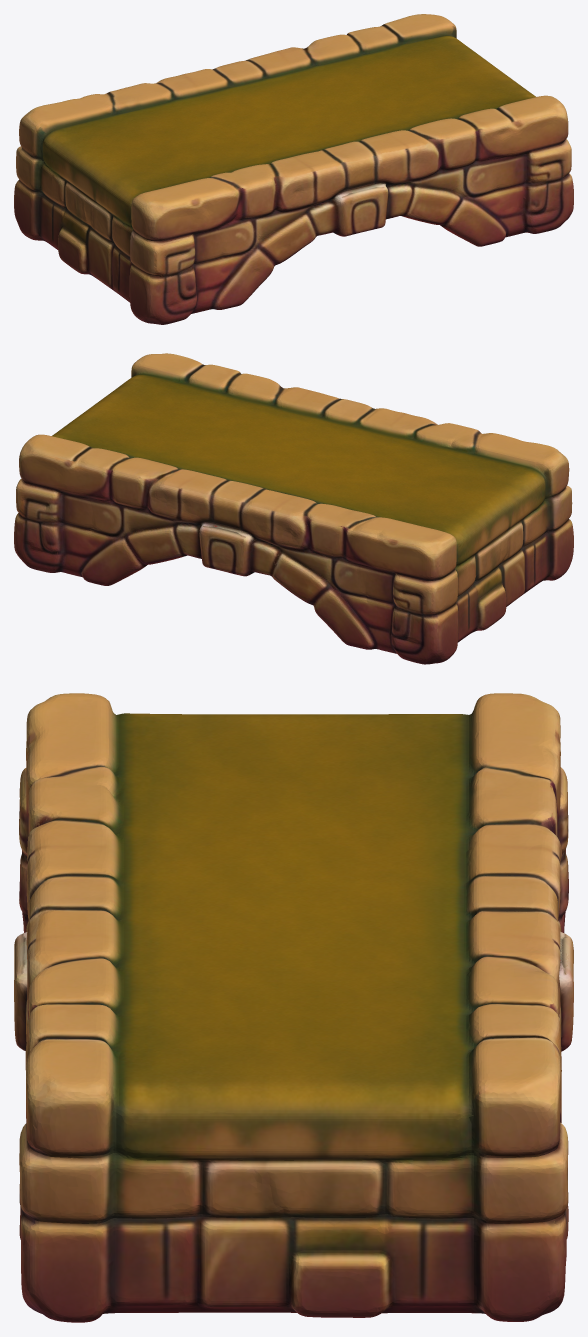
Rendered from platform_base.glb.
3 renders of one model, top to bottom at view 1: azimuth 30°, elevation 25°; view 2: azimuth 150°, elevation 25°; view 3: azimuth 270°, elevation 25°, orthographic. The views are drawn at different scales.
Parts seen in each view (by area): view 1: tmp_9ynpz1t.ply; view 2: tmp_9ynpz1t.ply; view 3: tmp_9ynpz1t.ply.
Part boxes in pixels (x1,y1,x2,y2): tmp_9ynpz1t.ply: (14, 14, 573, 324); tmp_9ynpz1t.ply: (14, 353, 573, 664); tmp_9ynpz1t.ply: (14, 693, 573, 1322).
Bounding box in the file's own units: 2 × 0.5411 × 1.16.
Materials: 1 (1 with a texture image).
